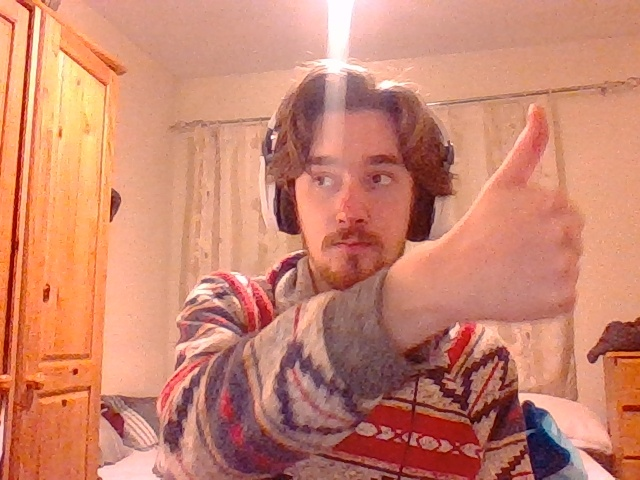good: (454, 103, 586, 318)
